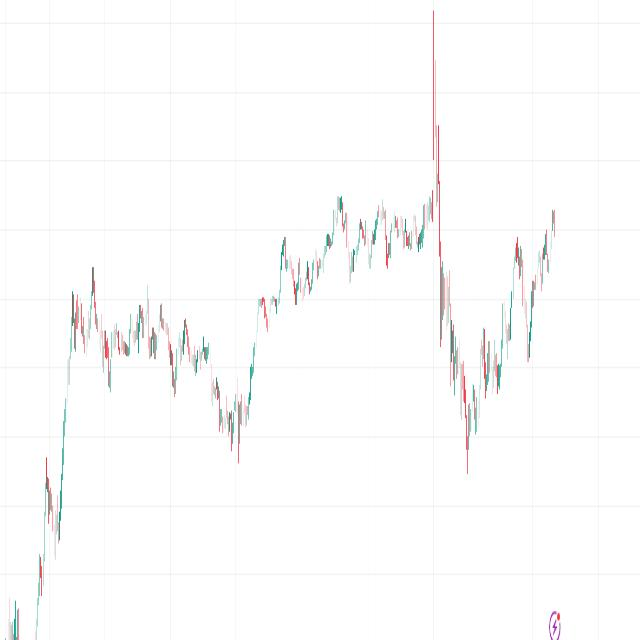Rising-Wedge: (452, 190, 566, 518)
